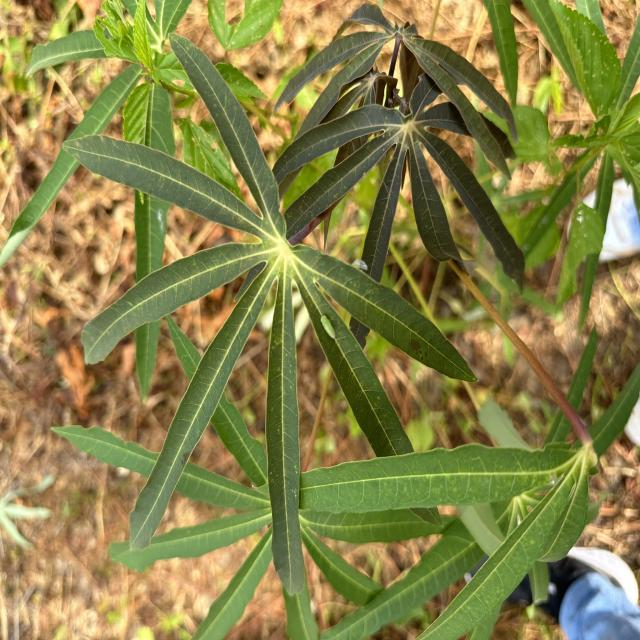Mosaico: (84, 9, 209, 155)
